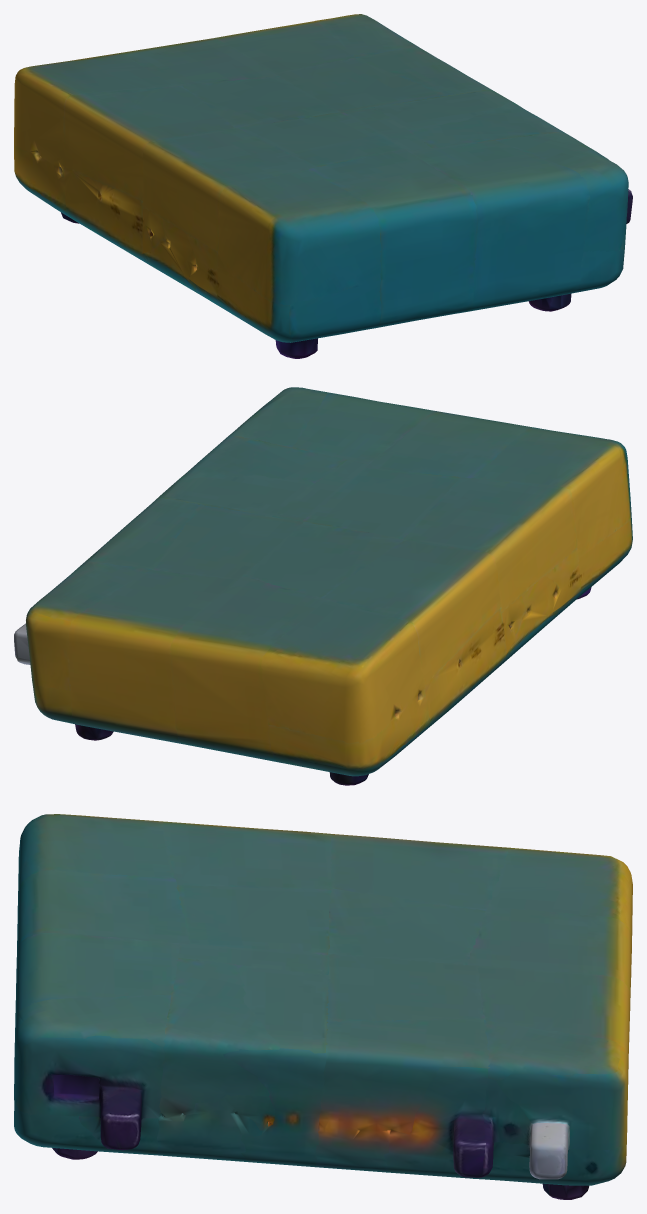
Rendered from network_switch_node.glb.
The picture shows the model from 3 angles, top to bottom: view 1: azimuth 30°, elevation 25°; view 2: azimuth 150°, elevation 25°; view 3: azimuth 270°, elevation 25°; orthographic projection. The views are drawn at different scales.
Visible parts, largest first — view 1: tripo_node_26aeb642-0a1e-4234-a718-249441ca34cc; view 2: tripo_node_26aeb642-0a1e-4234-a718-249441ca34cc; view 3: tripo_node_26aeb642-0a1e-4234-a718-249441ca34cc.
Boxes of the visible parts, x1,y1,x2,y2 form: tripo_node_26aeb642-0a1e-4234-a718-249441ca34cc: (14,14,632,358); tripo_node_26aeb642-0a1e-4234-a718-249441ca34cc: (14,387,632,785); tripo_node_26aeb642-0a1e-4234-a718-249441ca34cc: (14,814,632,1199).
Bounding box in the file's own units: 0.7795 × 0.3768 × 0.9494.
Materials: 1 (1 with a texture image).
